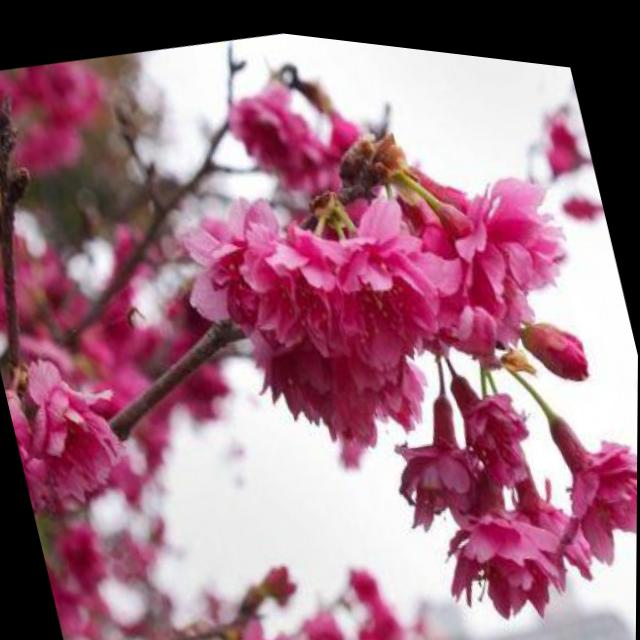Flower: (329, 88, 592, 405), (174, 158, 446, 464), (489, 312, 638, 553), (369, 347, 499, 537), (3, 338, 131, 514), (435, 477, 574, 620), (432, 335, 540, 489)
